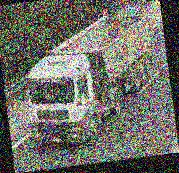truck: (17, 13, 165, 150)
